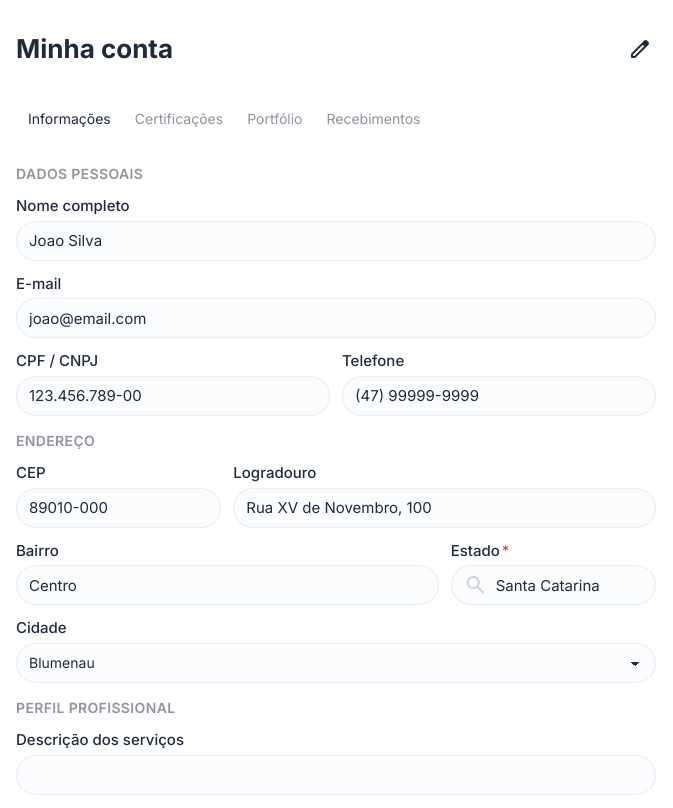
Test case: MinhaContaView › exibe botao salvar apenas no modo de edicao
This screenshot has width=673, height=808.
Click the button with test id "btn-editar" at (640, 49), box [624,33,656,65]
(page scrolled)
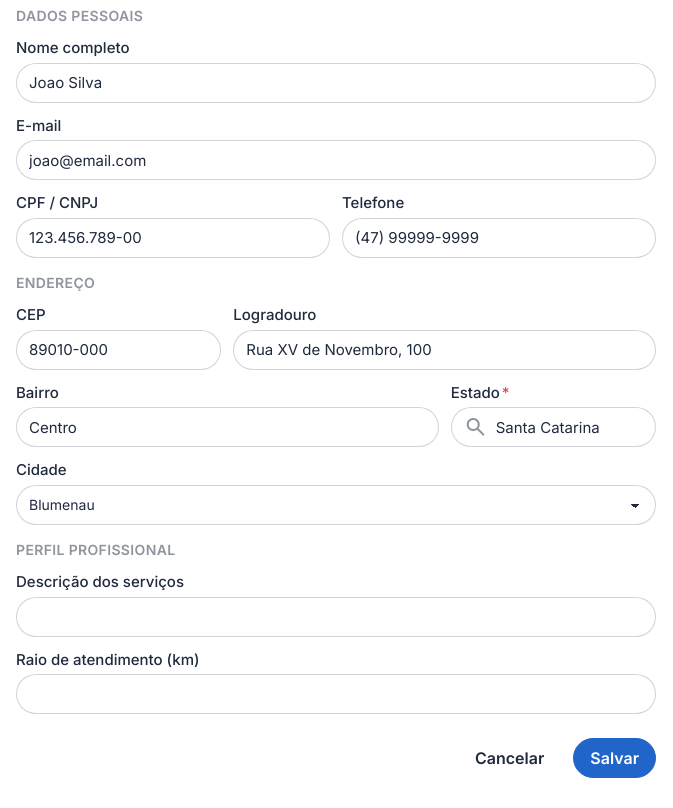
Check: the button with test id "btn-salvar" is shown, box [573,738,656,778]
